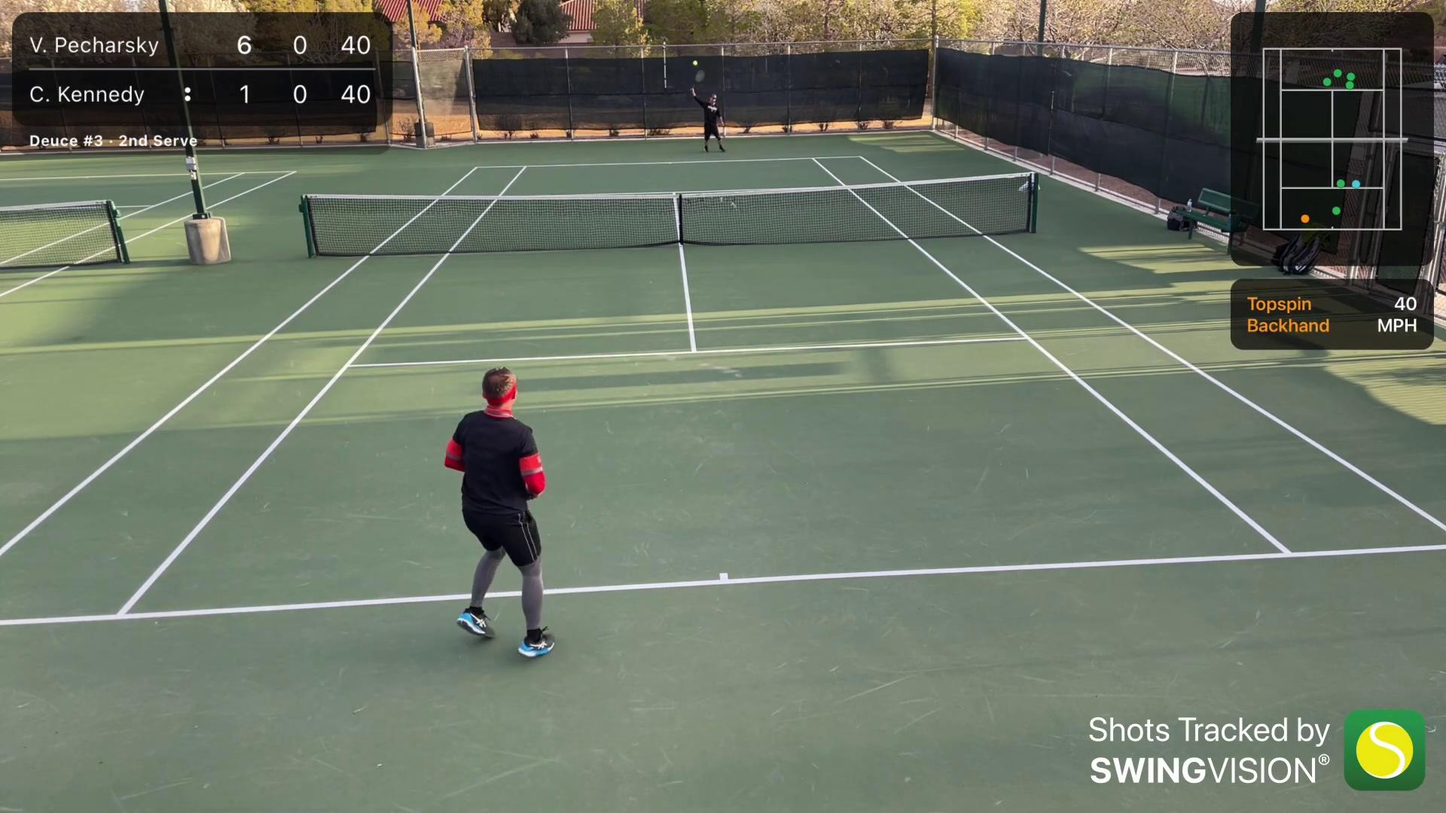ball: (692, 61, 695, 65)
